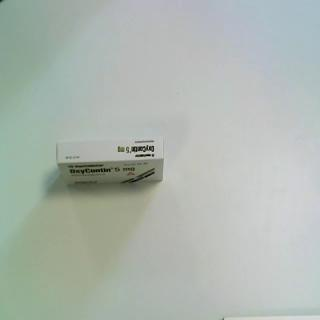oxycontin5mg: (52, 134, 166, 192)
